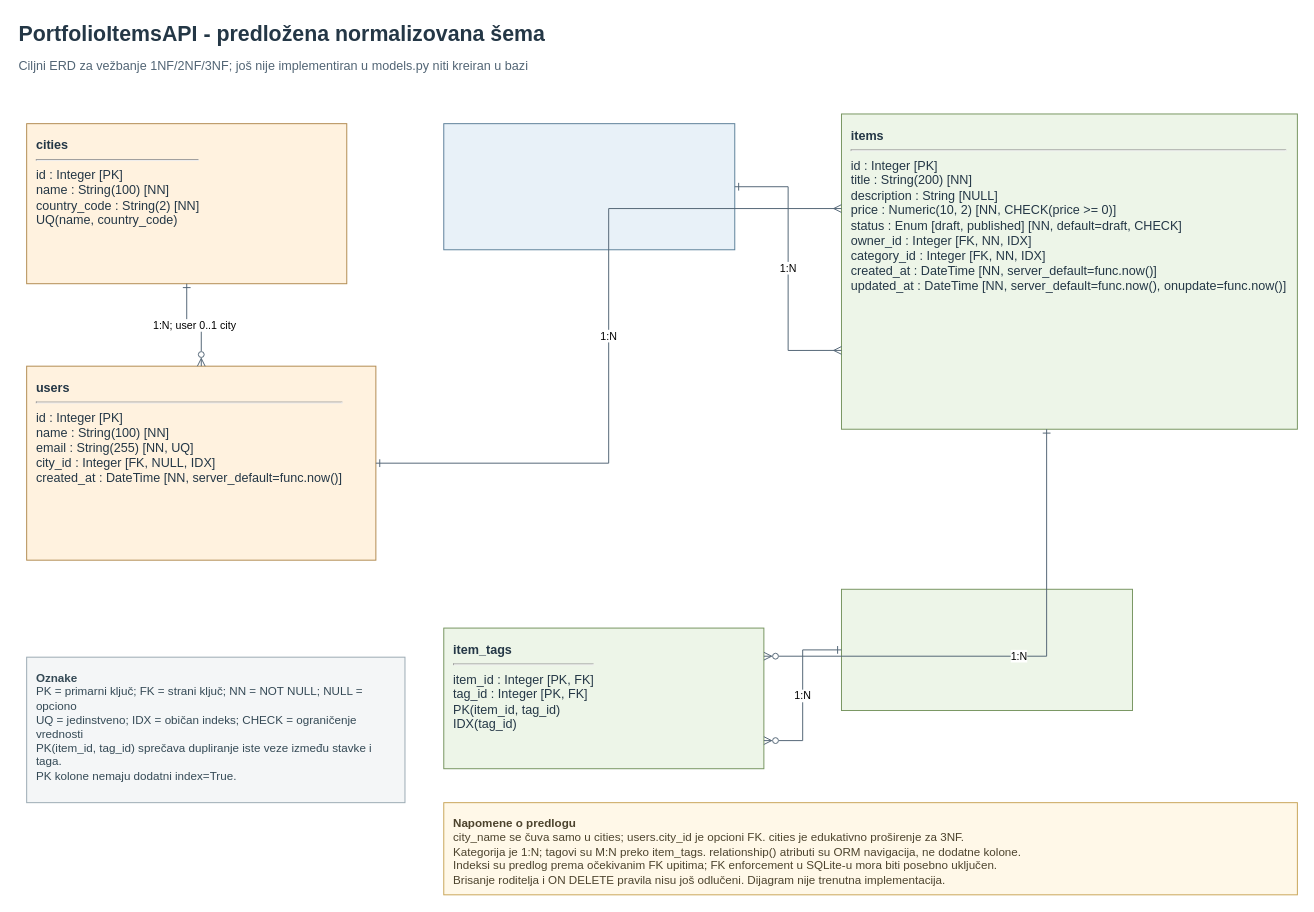
This 1314x912 diagram has some shape labels left out. Here are the shapes that lost their labels. From the top down, the centre of each, then its label:
At point 589,186: "categories id : Integer [PK] name : String(100) [NN, UQ]".
At point 986,649: "tags id : Integer [PK] name : String(50) [NN, UQ]".
